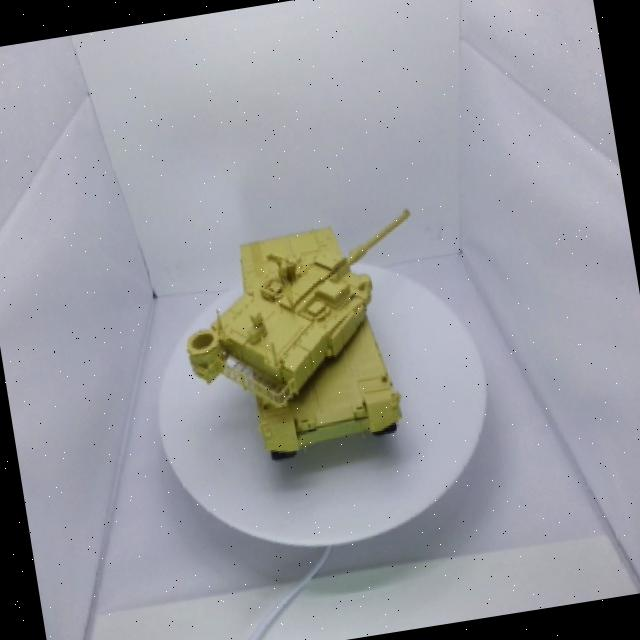korea tank: (140, 155, 511, 497)
